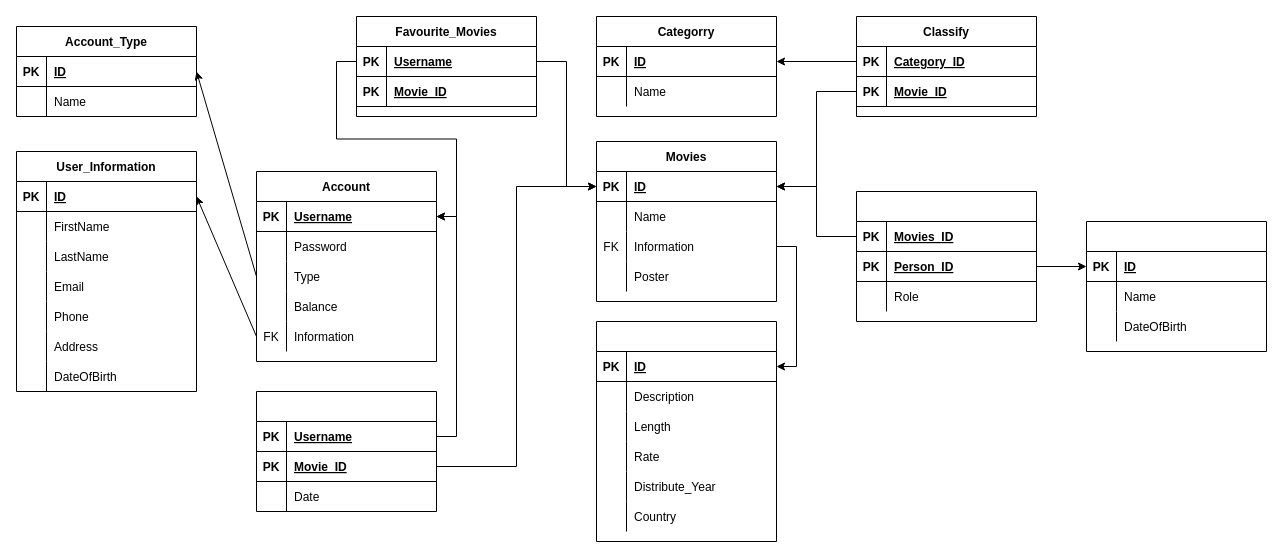
This 1283x558 diagram has some shape labels left out. The shapes that lost their labels are listed below. From the top down, each one's box as (x1, y1, x2, y2) in pixels, then its label:
(856, 190, 1036, 322): Credits
(1086, 220, 1266, 352): Celebrities
(256, 390, 436, 512): Purchase_Infomation
(596, 320, 776, 542): Movie_Infomation
